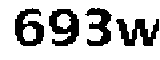3: (85, 7, 113, 47)
6: (12, 7, 44, 49)
9: (47, 8, 81, 52)
w: (115, 16, 160, 49)
